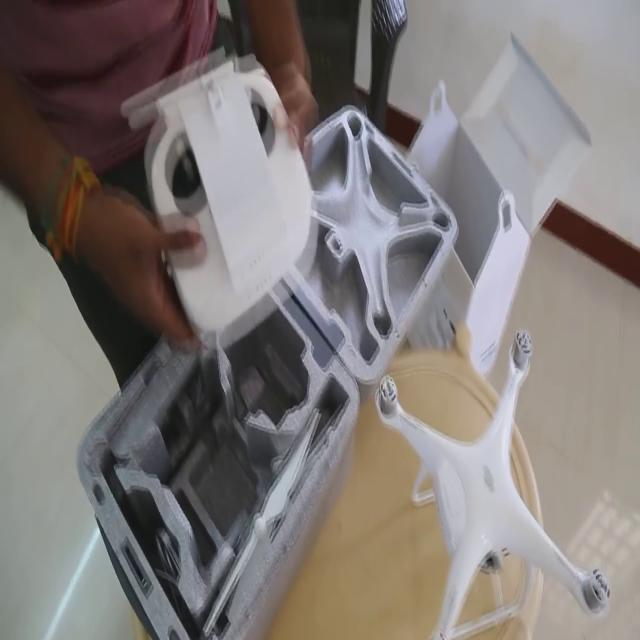drone: (374, 328, 616, 640)
